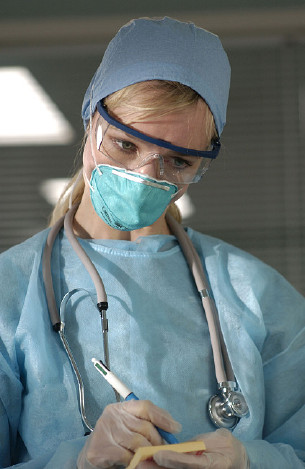face_mask: (83, 88, 210, 227)
